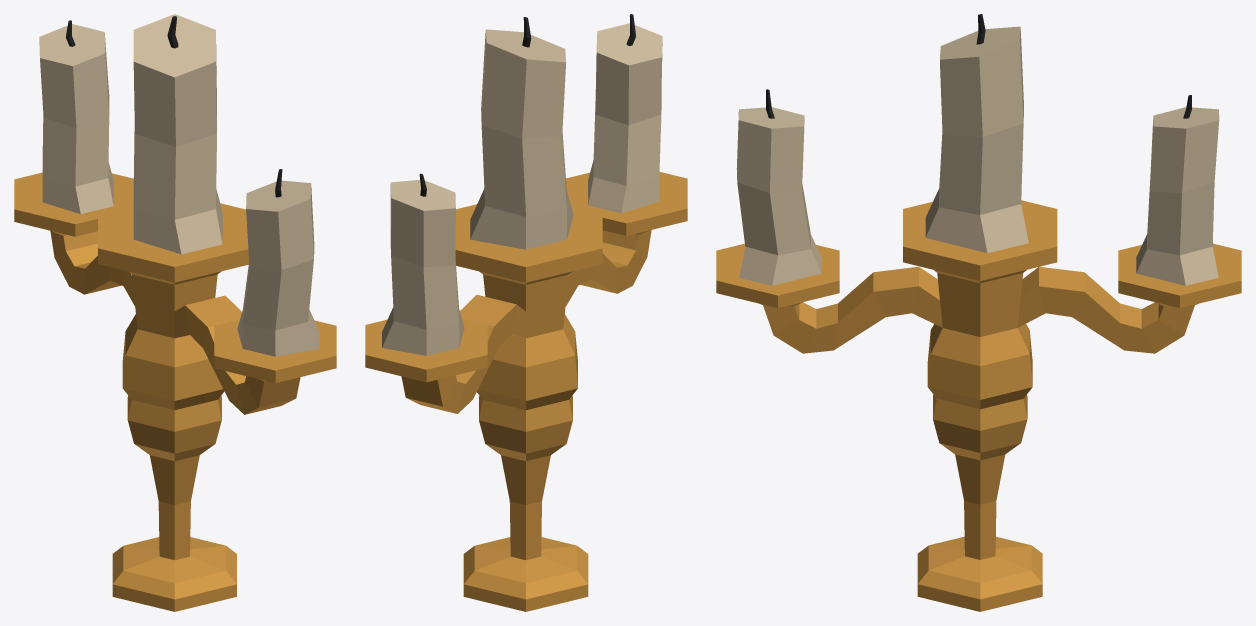
The model's file is Candelabrum.glb.
The picture shows the model from 3 angles, left to right: view 1: azimuth 30°, elevation 25°; view 2: azimuth 150°, elevation 25°; view 3: azimuth 270°, elevation 25°; orthographic projection.
Parts seen in each view (by area): view 1: Candelabrum; view 2: Candelabrum; view 3: Candelabrum.
Boxes of the visible parts, box(x1,y1,x2,y2) form: Candelabrum: box(14, 14, 336, 611); Candelabrum: box(365, 14, 687, 611); Candelabrum: box(716, 14, 1241, 611).
Size of the model in its own units: 0.3061 by 1.08 by 0.9028.
